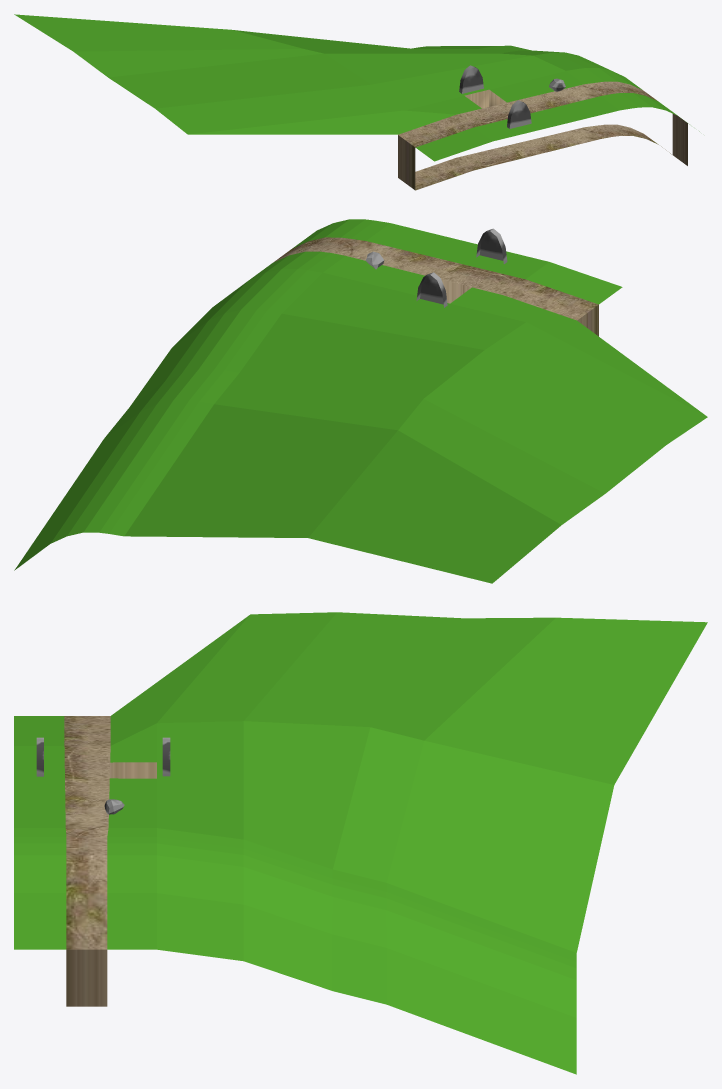
The model's file is graveyard.fbx.
3 renders of one model, top to bottom at view 1: azimuth 30°, elevation 25°; view 2: azimuth 150°, elevation 25°; view 3: azimuth 270°, elevation 25°, orthographic. The views are drawn at different scales.
Parts seen in each view (by area): view 1: Mesh, Mesh (2) (2), Mesh (2); view 2: Mesh, Mesh (2) (2), Mesh (2); view 3: Mesh.
Part boxes in pixels (x1,y1,x2,y2): Mesh: (14, 14, 699, 190); Mesh (2) (2): (507, 100, 531, 128); Mesh (2): (459, 65, 483, 93); Mesh: (14, 219, 707, 583); Mesh (2) (2): (476, 228, 507, 263); Mesh (2): (416, 272, 447, 307); Mesh: (14, 612, 707, 1074).
Bounding box in the file's own units: 18590 × 6900 × 19570.
Materials: 3 (3 with a texture image).
